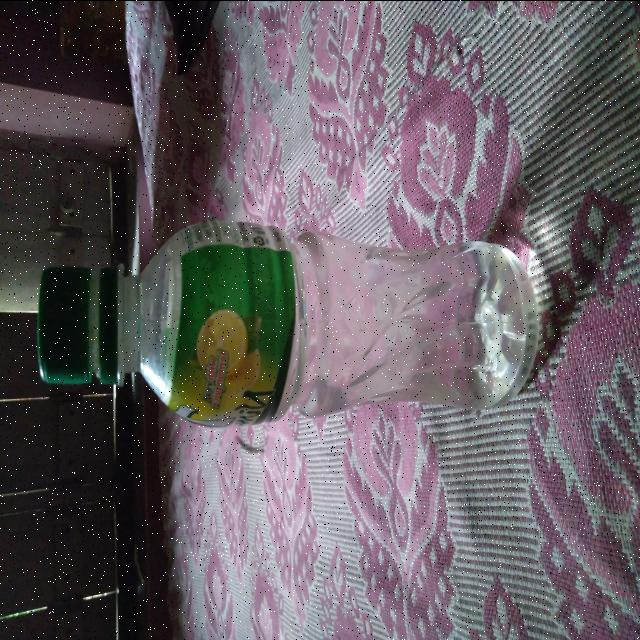plastic: (32, 222, 554, 434)
